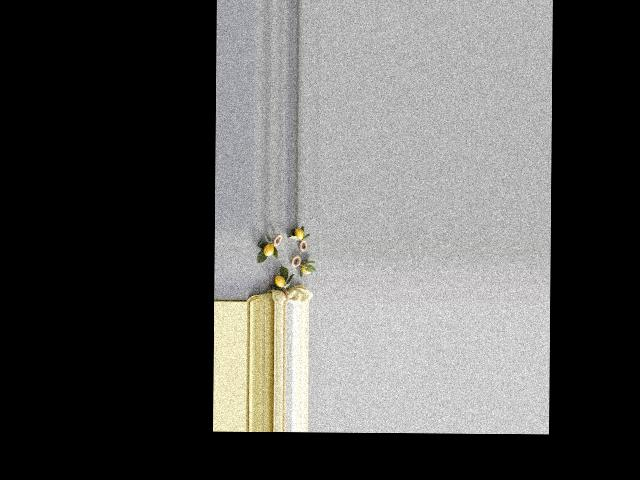lemon: (291, 225, 304, 241)
